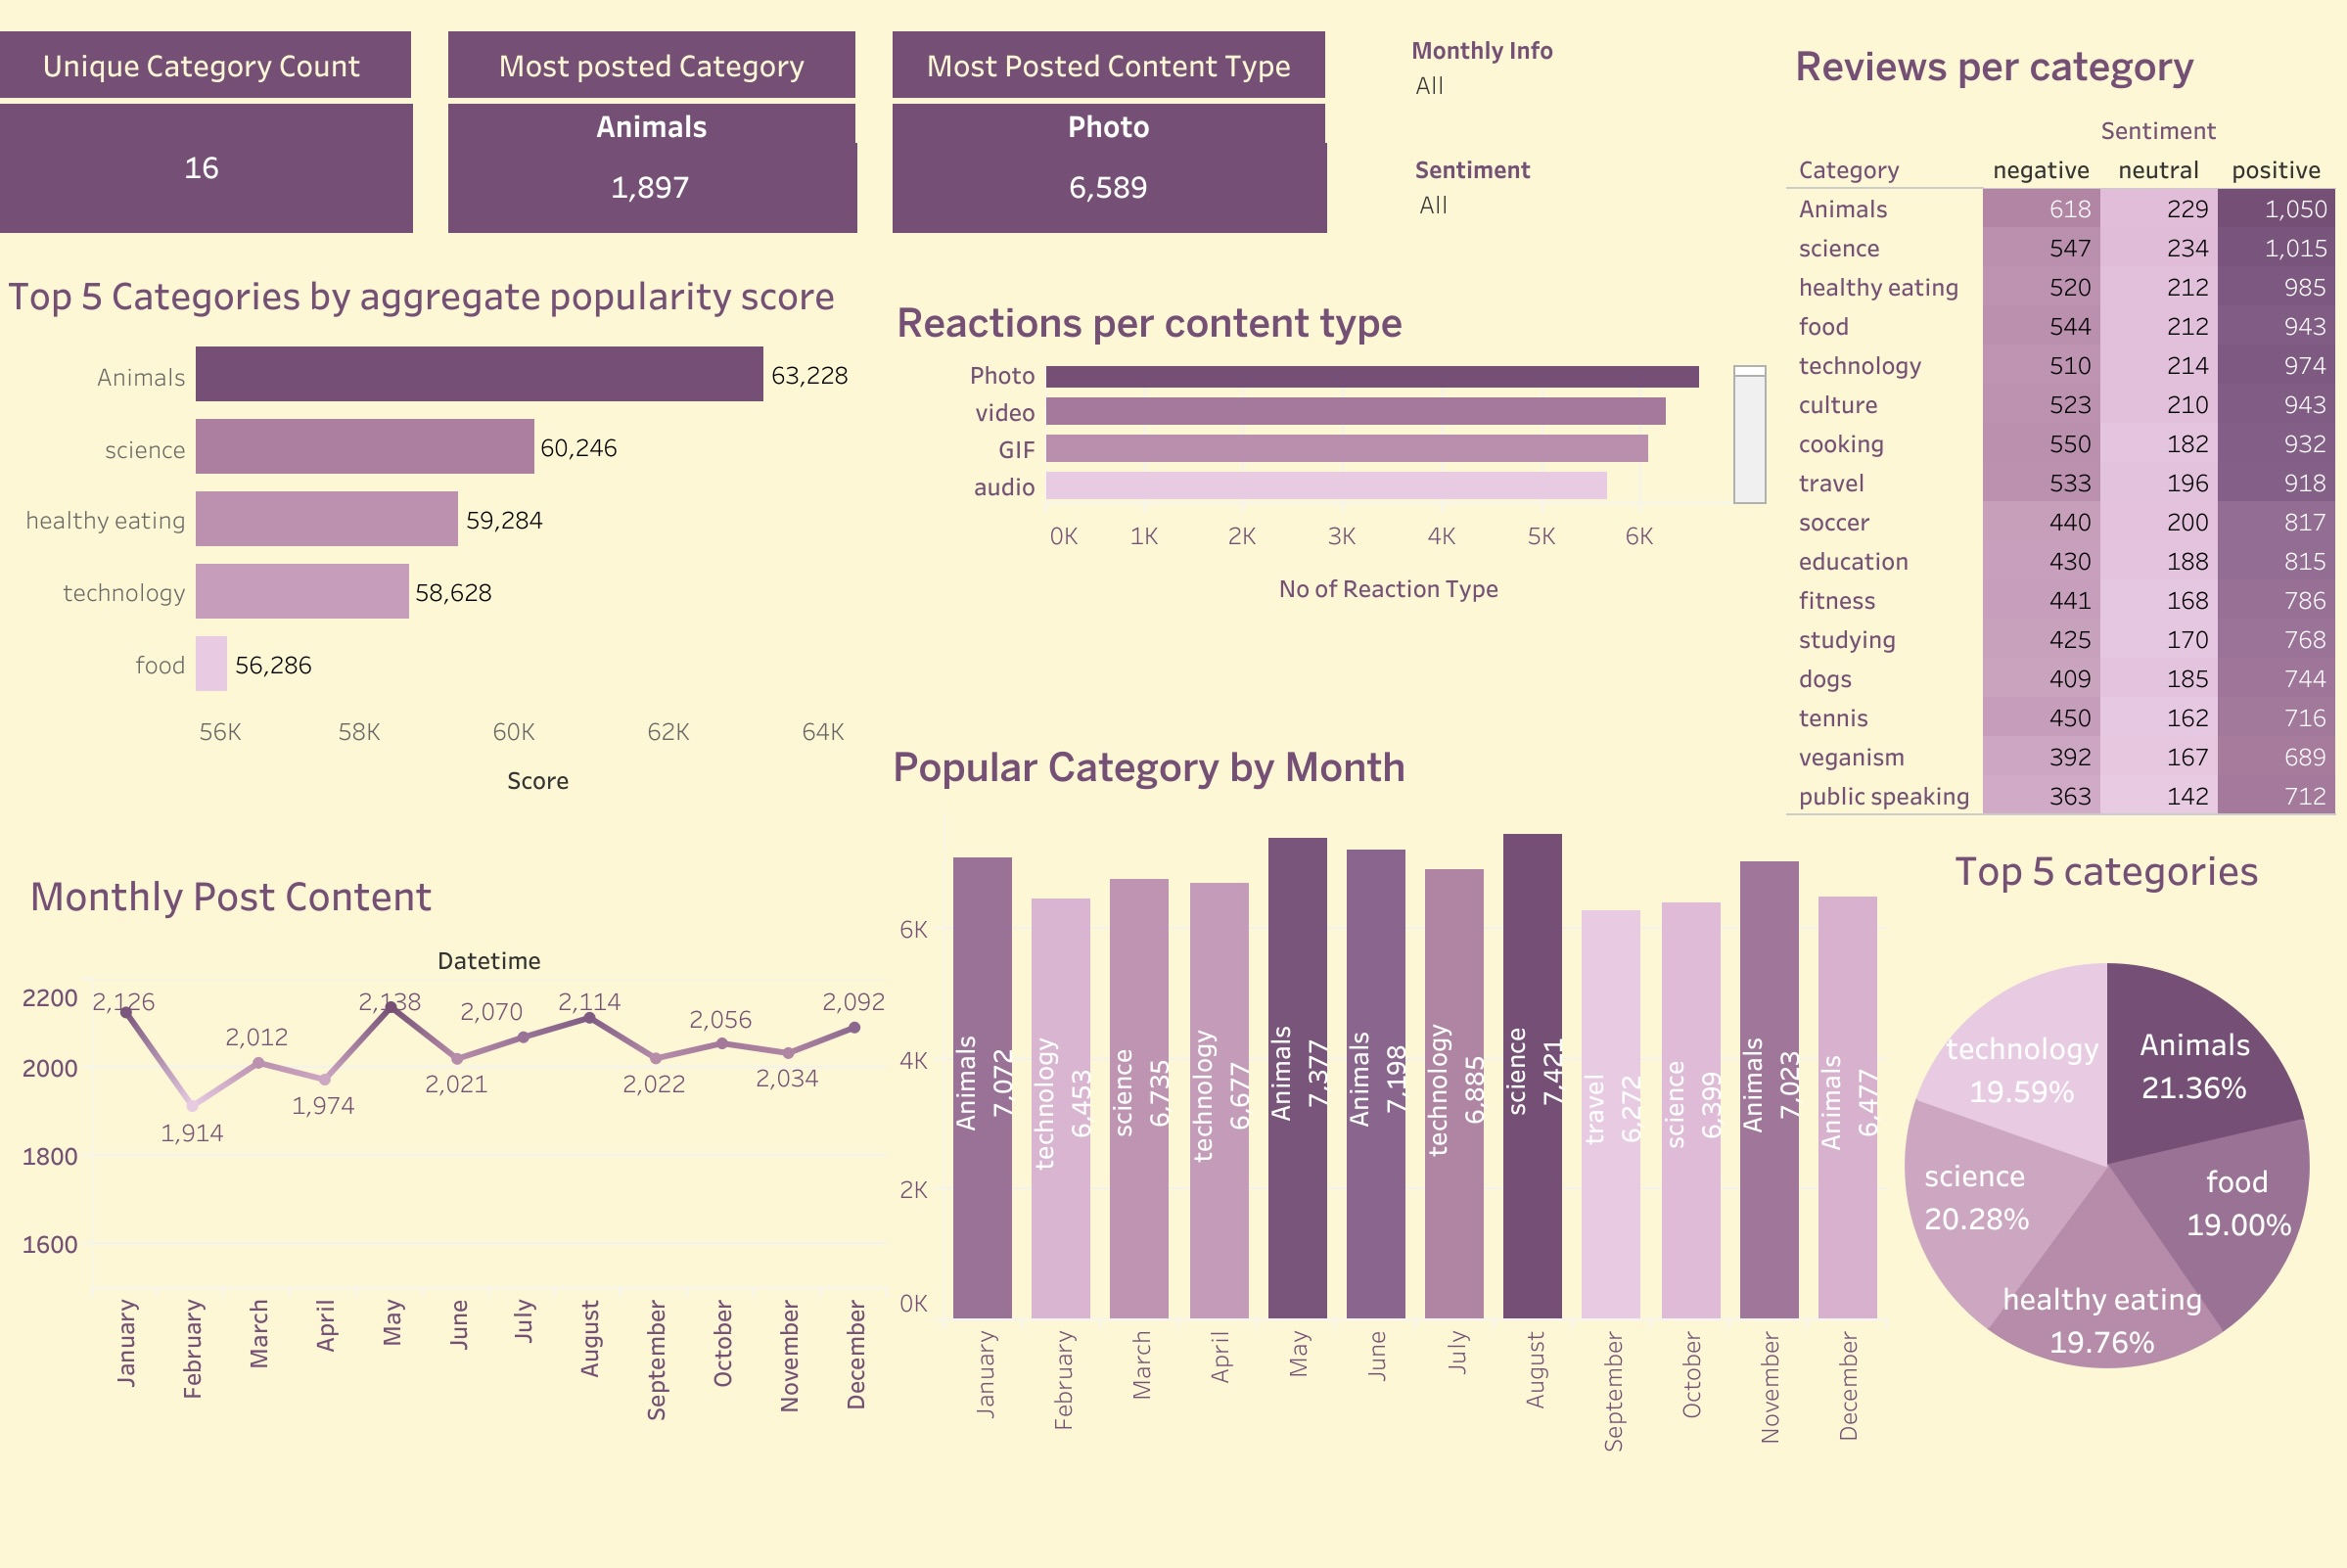

Layout of this report page (visuals, bound fields, positions):
{"tool":"tableau","page":{"name":"Dashboard 1","canvas":[1200,700],"ordinal":0},"visuals":[{"type":"image","param":"/Users/zainabshaikh/Desktop/DATA SCIENCE/Tableau/Socil_Buzz_bg.png","box":[8,8,1184,684]},{"type":"filter","title":"Montlhy Post Count","param":"[federated.128zdye1r584jz163osil0vjlhrs].[mn:Datetime:ok]","box":[721,8.8,160,26.2]},{"type":"worksheet","title":"Most Praised Category","mark":"Automatic","cols":["Category"],"box":[250,11,214,95]},{"type":"worksheet","title":"Most Posted Category","mark":"Automatic","cols":["Category"],"box":[26,12,208,94]},{"type":"worksheet","title":"Most Posted Content Type","mark":"Automatic","cols":["Content Type"],"box":[479,12,221,91]},{"type":"filter","title":" TOP 5 Category Counts for each reaction","param":"[federated.128zdye1r584jz163osil0vjlhrs].[none:Sentiment:nk]","box":[723,44.3,160,25.7]},{"type":"worksheet","title":"Count of Unique Categories","mark":"Automatic","rows":["Category"],"cols":["Category"],"box":[11,113,448,267]},{"type":"worksheet","title":"No of Reaction for Each Content type","mark":"Automatic","rows":["Content Type"],"cols":["Reaction Type"],"box":[454,149,449,190]},{"type":"worksheet","title":"Top Category by Month","mark":"Bar","rows":["Score"],"cols":["Datetime"],"box":[464,353,478,326]},{"type":"worksheet","title":"Top 5 categories","mark":"Pie","box":[940,409,255,274]},{"type":"worksheet","title":"Montlhy Post Count","mark":"Automatic","rows":["Content ID"],"cols":["Datetime"],"box":[17,428,440,176]}]}

Visuals, with their boxes on the page's 1200x700 design canvas (x1, y1, x2, y2). These are canvas units, not pixel positions in the 2347x1568 screenshot, which may show the page scaled, cropped or inside an application window:
image: select_region(8, 8, 1192, 692)
"Montlhy Post Count" filter: select_region(721, 9, 881, 35)
"Most Praised Category" worksheet: select_region(250, 11, 464, 106)
"Most Posted Category" worksheet: select_region(26, 12, 234, 106)
"Most Posted Content Type" worksheet: select_region(479, 12, 700, 103)
" TOP 5 Category Counts for each reaction" filter: select_region(723, 44, 883, 70)
"Count of Unique Categories" worksheet: select_region(11, 113, 459, 380)
"No of Reaction for Each Content type" worksheet: select_region(454, 149, 903, 339)
"Top Category by Month" worksheet (Bar marks): select_region(464, 353, 942, 679)
"Top 5 categories" worksheet (Pie marks): select_region(940, 409, 1195, 683)
"Montlhy Post Count" worksheet: select_region(17, 428, 457, 604)
